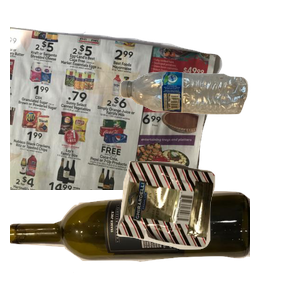glass: (10, 189, 250, 300)
paper: (10, 22, 225, 202)
plastic: (118, 69, 300, 176)
trash: (115, 158, 300, 300)
